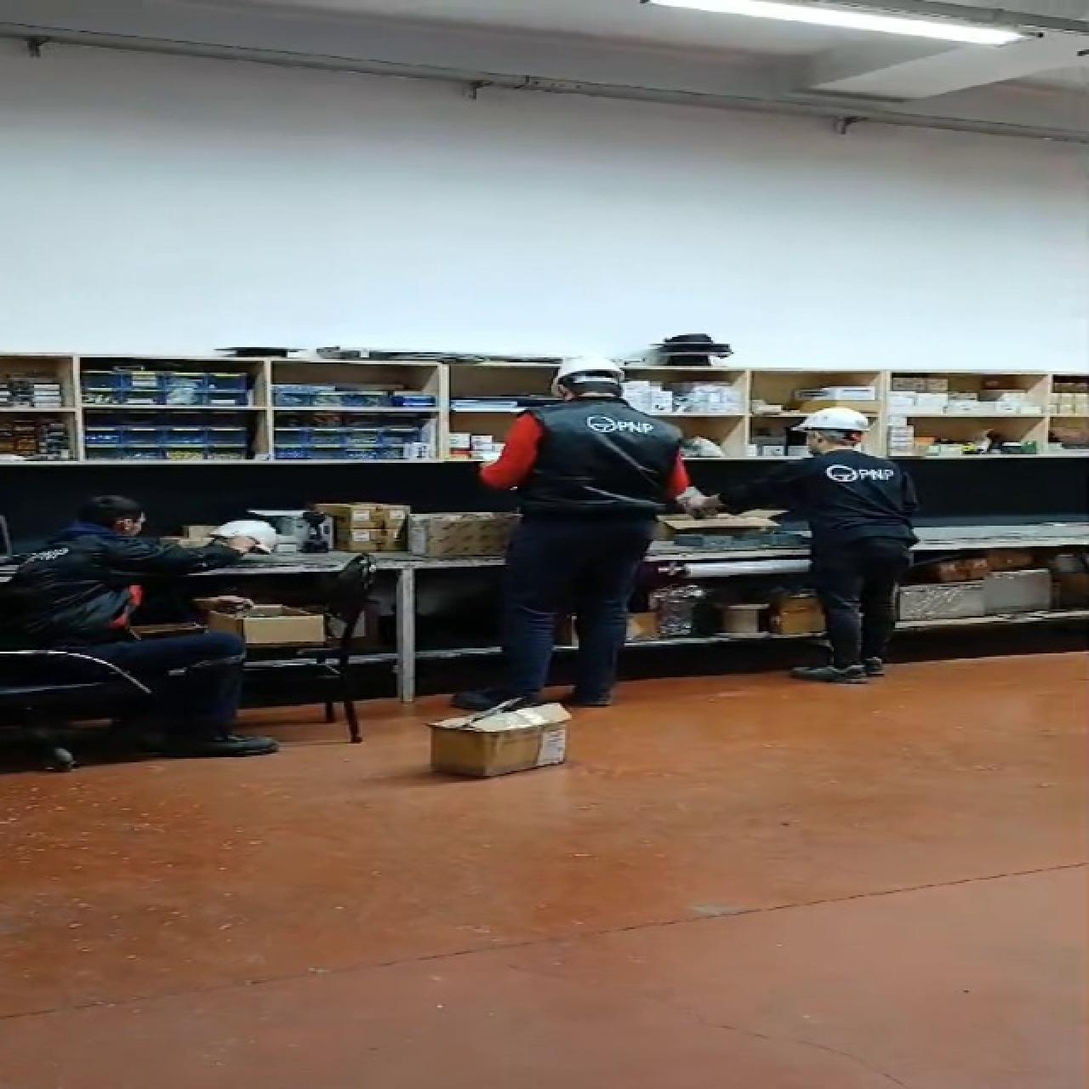NO_Safety_Vest: (539, 398, 676, 523), (0, 527, 122, 647), (807, 454, 907, 536)
Person: (442, 344, 708, 715), (0, 470, 294, 755), (716, 392, 917, 688)
